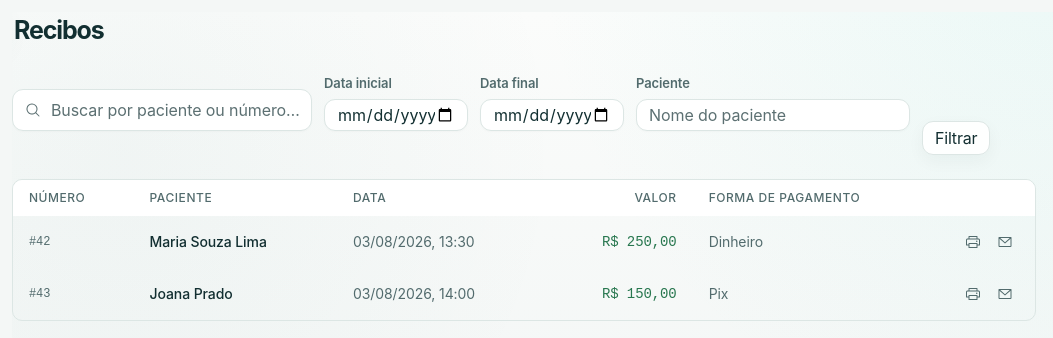
it: tela Recibos › filtra por busca
This screenshot has width=1053, height=338.
expect the text "#42" is shown: met, box [13,216,134,268]
Type "Joana" into the field labelled "Buscar por paciente ou número…". click: (175, 110)
box: [51,90,299,130]
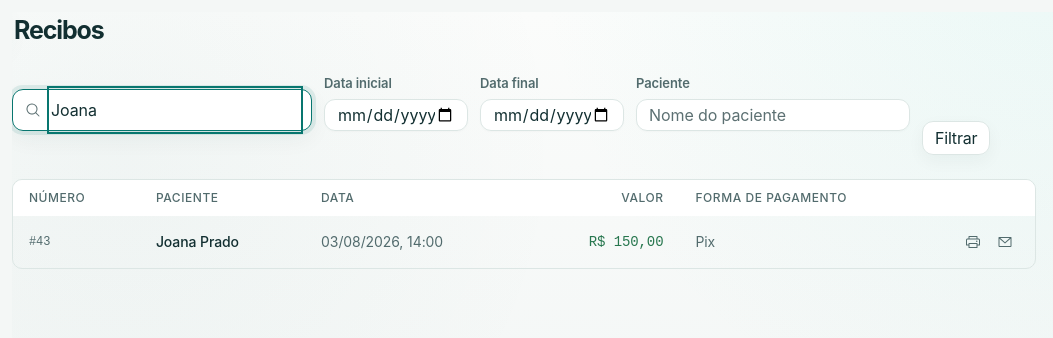
expect the text "Joana Prado" is shown: met, box [140,216,305,268]
expect the text "Maria Souza Lima" is gone: met
